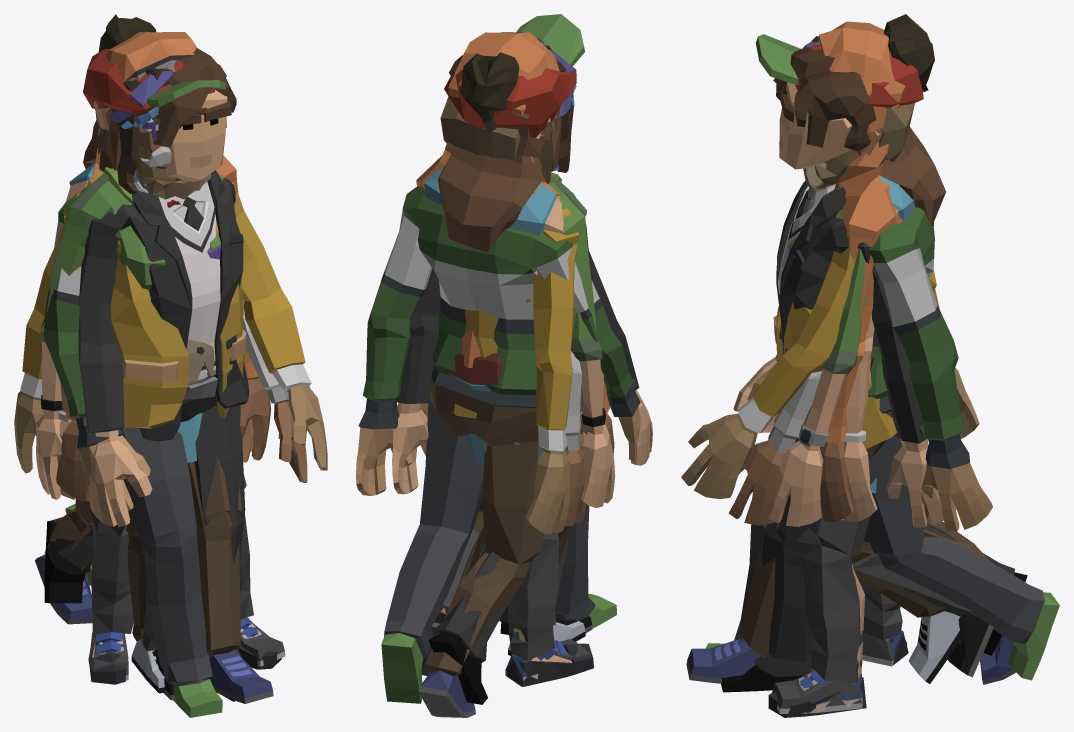
The model's file is human-characters-poses-1.glb.
The picture shows the model from 3 angles, left to right: view 1: azimuth 30°, elevation 25°; view 2: azimuth 150°, elevation 25°; view 3: azimuth 270°, elevation 25°; orthographic projection. The views are drawn at different scales.
Visible parts, largest first — view 1: Character_1, Character_5, Character_6, Character_4, Character_7, Character_2, Character_3, Character_8; view 2: Character_6, Character_5, Character_3, Character_1, Character_4, Character_2, Character_7, Character_8; view 3: Character_1, Character_5, Character_4, Character_6, Character_7, Character_2, Character_3, Character_8.
Part boxes in pixels (<box>): Character_1: <box>44,48,249,701</box>; Character_5: <box>14,119,327,717</box>; Character_6: <box>35,172,273,703</box>; Character_4: <box>56,32,285,680</box>; Character_7: <box>36,70,280,693</box>; Character_2: <box>83,48,307,700</box>; Character_3: <box>57,71,281,684</box>; Character_8: <box>94,14,258,654</box>; Character_6: <box>356,96,640,717</box>; Character_5: <box>381,121,616,703</box>; Character_3: <box>397,69,608,686</box>; Character_1: <box>392,32,652,704</box>; Character_4: <box>416,14,614,686</box>; Character_2: <box>422,60,592,675</box>; Character_7: <box>460,41,615,655</box>; Character_8: <box>421,45,586,680</box>; Character_1: <box>721,47,1027,692</box>; Character_5: <box>681,233,1059,680</box>; Character_4: <box>755,21,906,713</box>; Character_6: <box>686,103,1015,684</box>; Character_7: <box>769,41,960,683</box>; Character_2: <box>728,45,993,677</box>; Character_3: <box>768,126,945,717</box>; Character_8: <box>799,14,934,712</box>.
Bounding box in the file's own units: 0.6965 × 1.89 × 0.9805.
1 material, 1 textured.
